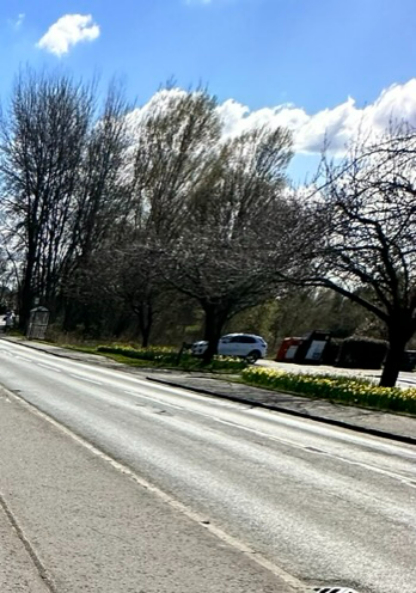car: (191, 328, 273, 363)
tree: (112, 182, 298, 365), (309, 151, 416, 380), (6, 57, 64, 342)
